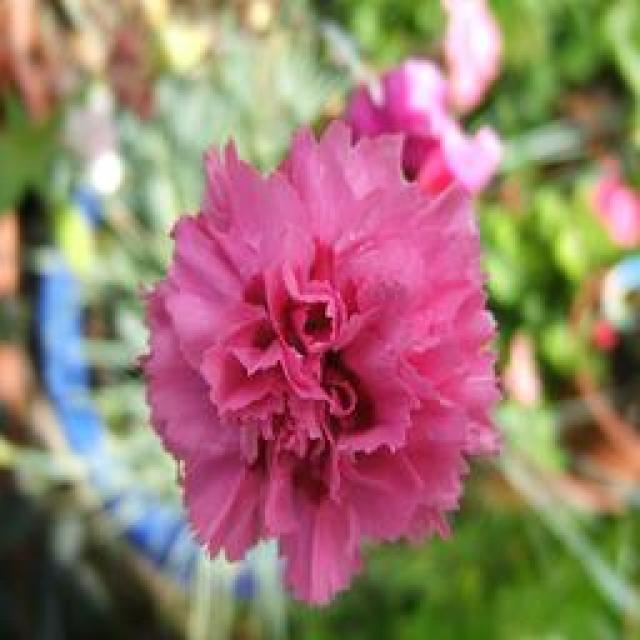carnation: (129, 112, 520, 570)
